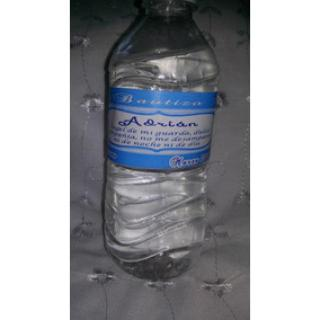Plastic-bottle: (94, 1, 222, 284)
